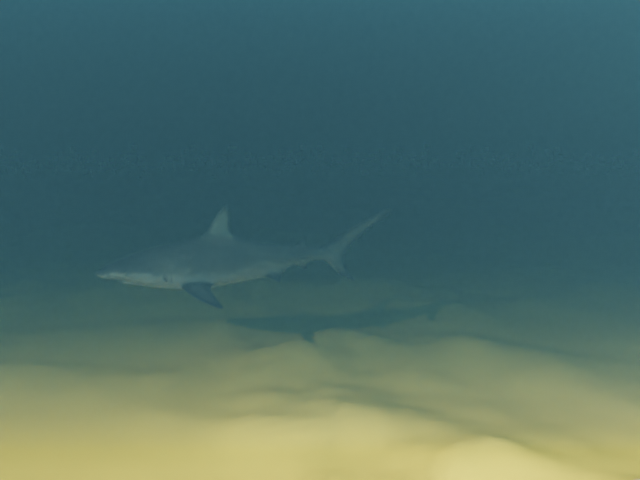Carribean Shark.001: (95, 205, 392, 309)
